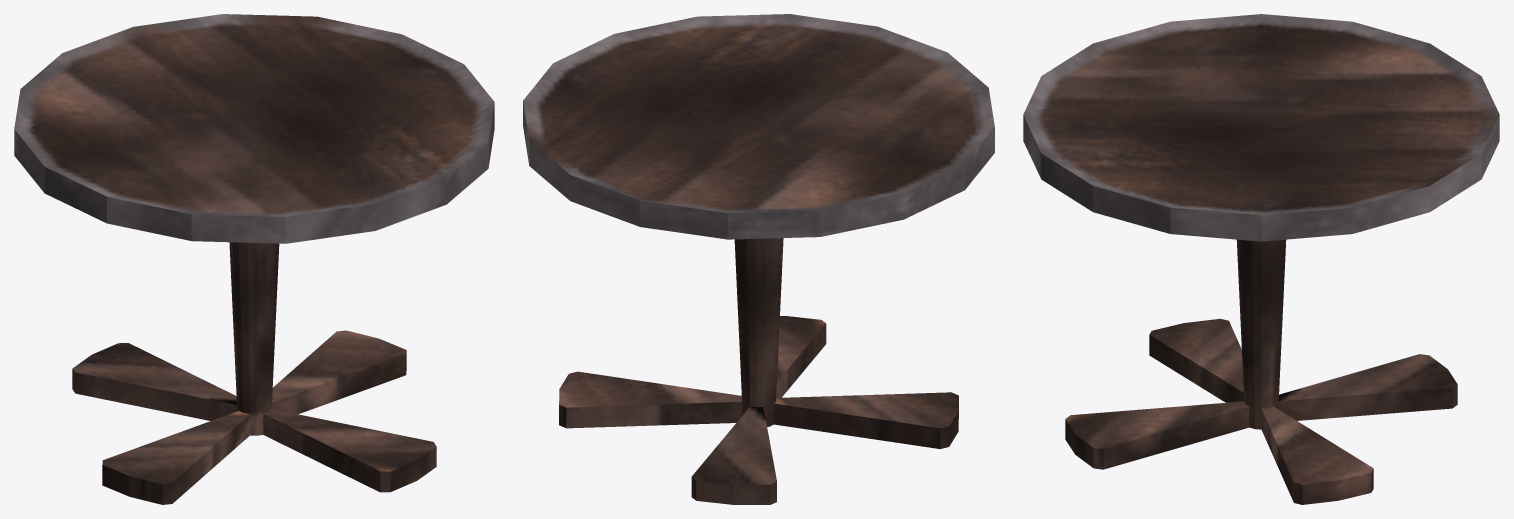
The model's file is TABLE2.fbx.
3 views of the same model, side by side, from view 1: azimuth 30°, elevation 25°; view 2: azimuth 150°, elevation 25°; view 3: azimuth 270°, elevation 25° (orthographic).
Visible parts, largest first — view 1: TABLE2; view 2: TABLE2; view 3: TABLE2.
Boxes of the visible parts, x1,y1,x2,y2 form: TABLE2: [14, 14, 494, 504]; TABLE2: [523, 14, 994, 504]; TABLE2: [1023, 14, 1499, 504].
Size of the model in its own units: 75.74 by 53.97 by 75.74.
